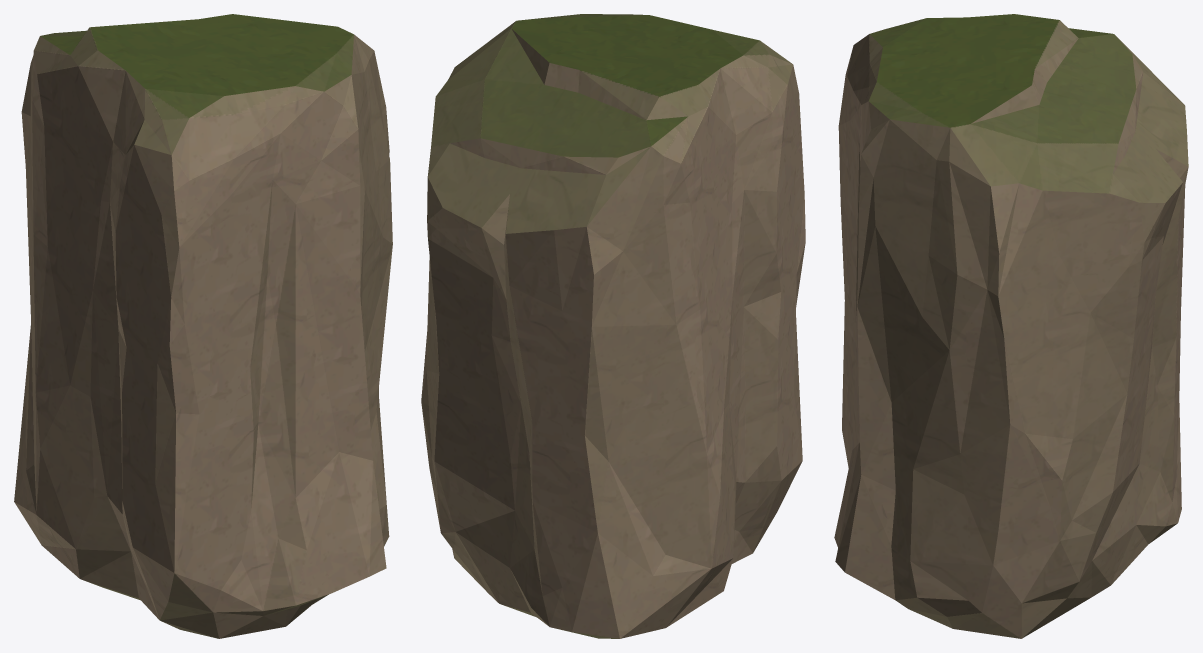
The model's file is SM_Env_Rock_Cliff_01.glb.
The picture shows the model from 3 angles, left to right: view 1: azimuth 30°, elevation 25°; view 2: azimuth 150°, elevation 25°; view 3: azimuth 270°, elevation 25°; orthographic projection. The views are drawn at different scales.
Parts seen in each view (by area): view 1: SM_Env_Rock_Cliff_01; view 2: SM_Env_Rock_Cliff_01; view 3: SM_Env_Rock_Cliff_01.
Part boxes in pixels (box(x1,y1,x2,y2)): SM_Env_Rock_Cliff_01: box(14, 14, 392, 638); SM_Env_Rock_Cliff_01: box(421, 14, 805, 638); SM_Env_Rock_Cliff_01: box(834, 14, 1188, 638).
Size of the model in its own units: 5 by 8.12 by 5.07.
1 material, 1 textured.
